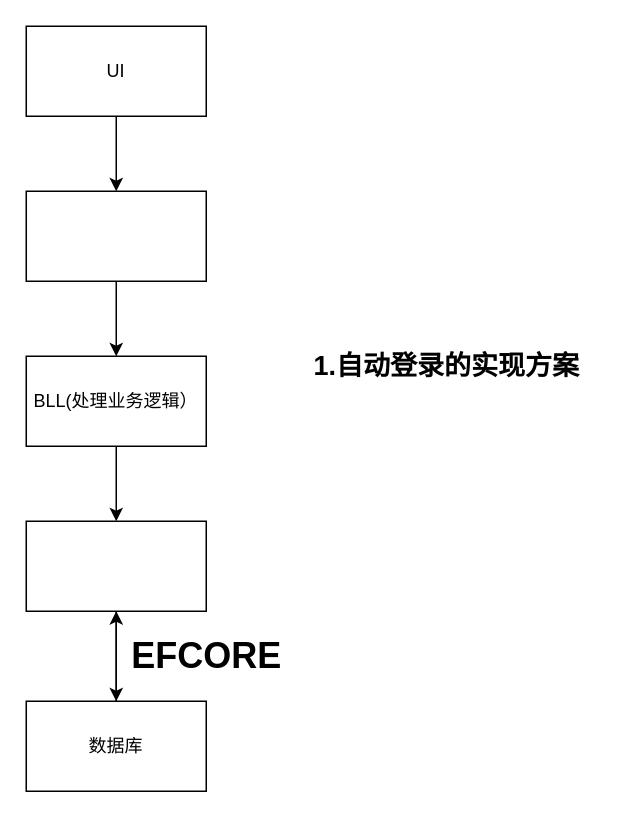
The diagram is 623 pixels wide and 818 high, and some of its shapes have lost their labels. The centre of each missing label's shape, as x and y in pixels:
"API（提供UI层调用的Controller，包含视图模型）" belongs at (115,235).
"Entities（取代原有的领域模型与DAL）" belongs at (115,565).
